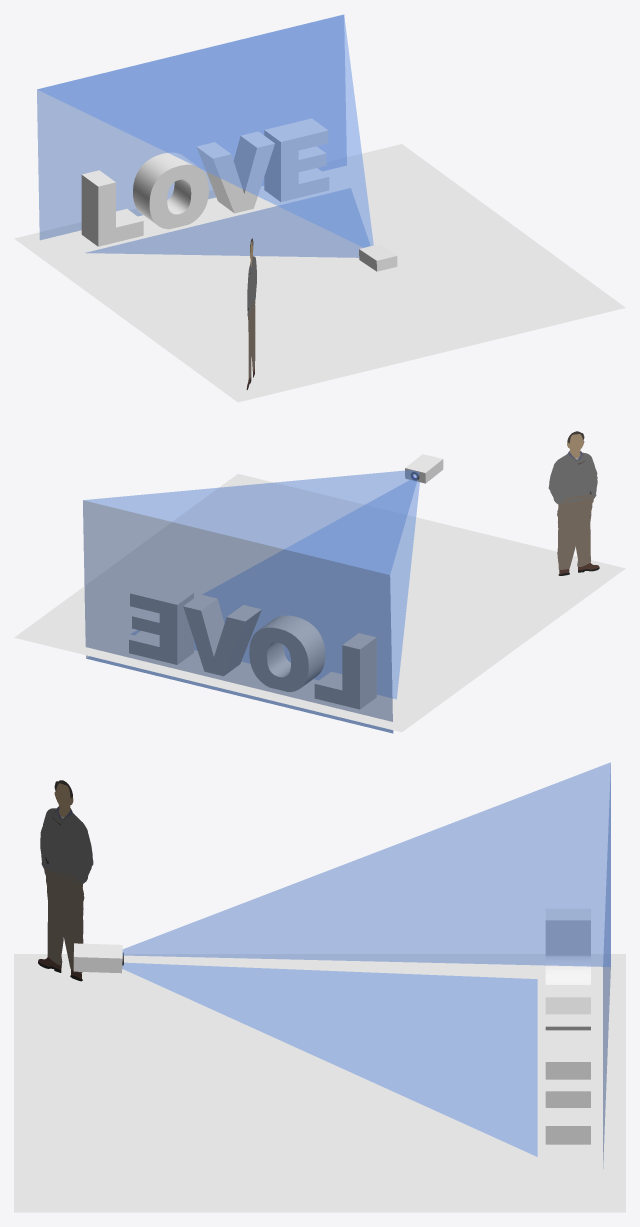
File: LETRAS.obj
3 renders of one model, top to bottom at view 1: azimuth 30°, elevation 25°; view 2: azimuth 150°, elevation 25°; view 3: azimuth 270°, elevation 25°, orthographic. The views are drawn at different scales.
Parts seen in each view (by area): view 1: Mesh4 Component_9_1 Model, Mesh2 Component_7_1 Component_8_1 Model, Mesh6 Componente_2_1 Model, Mesh8 Componente_4_1 Model, Mesh7 Componente_3_1 Model, Mesh5 Componente_1_1 Model, Mesh1 Derrick1 Model, Mesh3 Component_6_1 Component_8_1 Model; view 2: Mesh4 Component_9_1 Model, Mesh2 Component_7_1 Component_8_1 Model, Mesh1 Derrick1 Model, Mesh6 Componente_2_1 Model, Mesh8 Componente_4_1 Model, Mesh7 Componente_3_1 Model, Mesh5 Componente_1_1 Model, Mesh3 Component_6_1 Component_8_1 Model; view 3: Mesh4 Component_9_1 Model, Mesh2 Component_7_1 Component_8_1 Model, Mesh1 Derrick1 Model, Mesh8 Componente_4_1 Model, Mesh5 Componente_1_1 Model, Mesh7 Componente_3_1 Model, Mesh3 Component_6_1 Component_8_1 Model, Mesh6 Componente_2_1 Model.
Part boxes in pixels (bbox=[...]): Mesh4 Component_9_1 Model: bbox=[14, 144, 625, 402]; Mesh2 Component_7_1 Component_8_1 Model: bbox=[37, 14, 373, 257]; Mesh6 Componente_2_1 Model: bbox=[133, 152, 208, 229]; Mesh8 Componente_4_1 Model: bbox=[264, 118, 329, 201]; Mesh7 Componente_3_1 Model: bbox=[196, 131, 274, 213]; Mesh5 Componente_1_1 Model: bbox=[81, 170, 143, 246]; Mesh1 Derrick1 Model: bbox=[246, 238, 256, 389]; Mesh3 Component_6_1 Component_8_1 Model: bbox=[359, 244, 397, 271]; Mesh4 Component_9_1 Model: bbox=[14, 474, 625, 732]; Mesh2 Component_7_1 Component_8_1 Model: bbox=[83, 470, 419, 733]; Mesh1 Derrick1 Model: bbox=[548, 431, 599, 575]; Mesh6 Componente_2_1 Model: bbox=[249, 615, 325, 691]; Mesh8 Componente_4_1 Model: bbox=[129, 581, 193, 664]; Mesh7 Componente_3_1 Model: bbox=[183, 594, 261, 676]; Mesh5 Componente_1_1 Model: bbox=[314, 633, 376, 709]; Mesh3 Component_6_1 Component_8_1 Model: bbox=[405, 454, 443, 483]; Mesh4 Component_9_1 Model: bbox=[14, 954, 625, 1212]; Mesh2 Component_7_1 Component_8_1 Model: bbox=[122, 762, 610, 1168]; Mesh1 Derrick1 Model: bbox=[38, 780, 93, 981]; Mesh8 Componente_4_1 Model: bbox=[545, 1030, 590, 1144]; Mesh5 Componente_1_1 Model: bbox=[545, 908, 590, 955]; Mesh7 Componente_3_1 Model: bbox=[545, 985, 590, 1030]; Mesh3 Component_6_1 Component_8_1 Model: bbox=[73, 943, 123, 973]; Mesh6 Componente_2_1 Model: bbox=[545, 955, 590, 984].
Size of the model in its own units: 5000 by 1979 by 5000.
